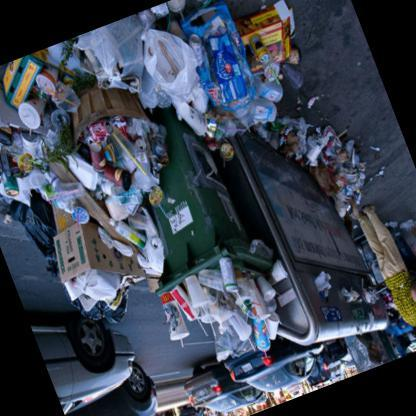Garbage: (0, 19, 196, 272), (122, 0, 326, 144), (18, 129, 170, 318), (0, 56, 81, 196), (292, 100, 370, 205), (255, 101, 315, 162)
